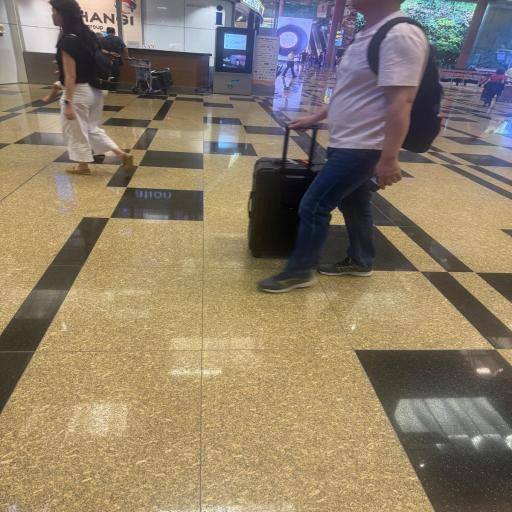person_left: (46, 0, 133, 175)
person_with_luggage_left: (247, 0, 445, 294)
